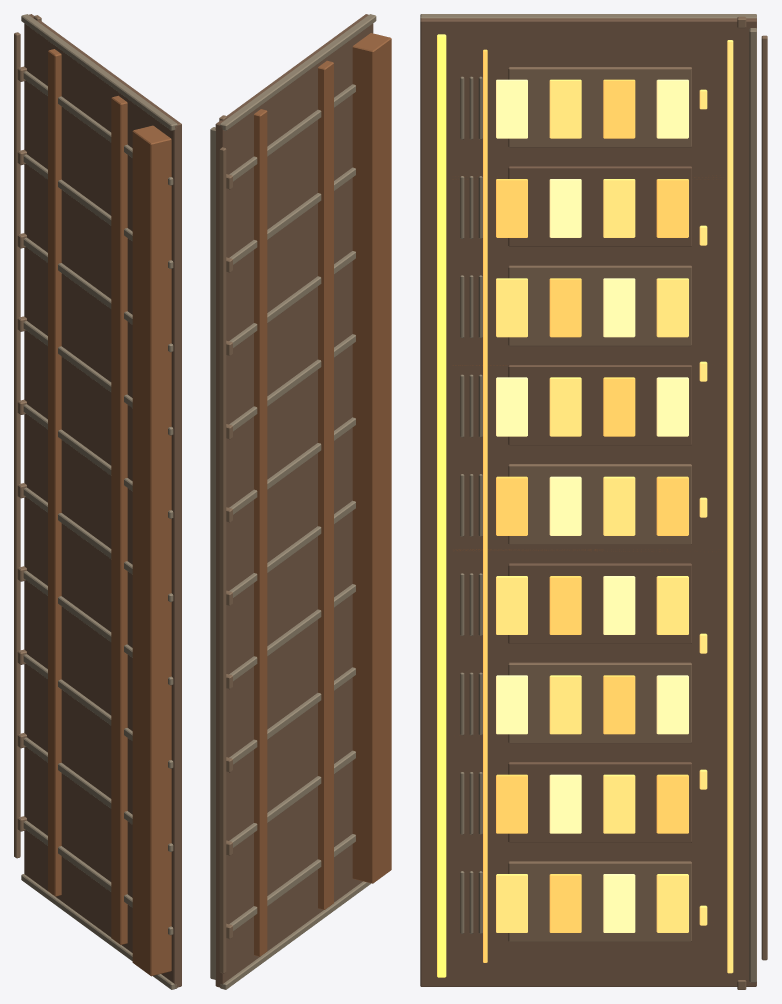
File: wall_ribbon_canyon_l.glb
The picture shows the model from 3 angles, left to right: view 1: azimuth 30°, elevation 25°; view 2: azimuth 150°, elevation 25°; view 3: azimuth 270°, elevation 25°; orthographic projection. The views are drawn at different scales.
Parts seen in each view (by area): view 1: WallRibbon_canyon_L; view 2: WallRibbon_canyon_L; view 3: WallRibbon_canyon_L.
Boxes of the visible parts, x1,y1,x2,y2 form: WallRibbon_canyon_L: [14, 14, 181, 989]; WallRibbon_canyon_L: [210, 14, 391, 989]; WallRibbon_canyon_L: [420, 14, 767, 989].
Size of the model in its own units: 0.62 by 14 by 4.54.
